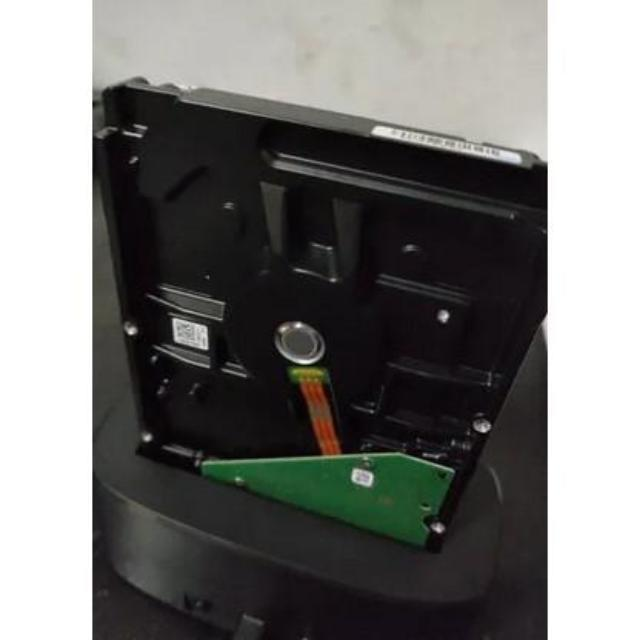DISK: (92, 66, 548, 560)
